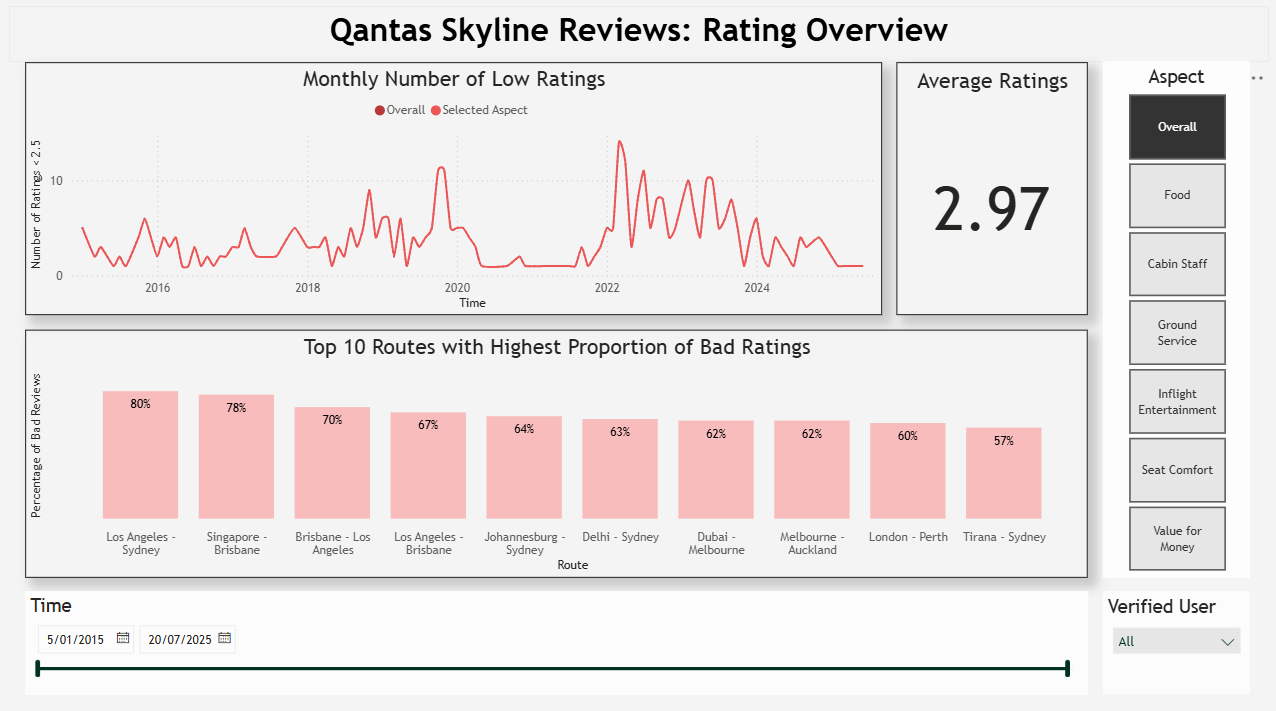

What the dashboard file says about the page in this screenshot:
{"tool":"powerbi","page":{"name":"Overview","canvas":[1280,720],"ordinal":0},"visuals":[{"type":"card","fields":{"Values":["qantas_reviews_data.No route data"]},"box":[438.4,380.8,236,153.2],"z":0},{"type":"clusteredColumnChart","title":"Top 10 Routes with Highest Proportion of Bad Ratings","fields":{"Category":["qantas_reviews_data.ROUTE1"],"Y":["qantas_reviews_data.Proportion Bad Reviews per Route and Aspect"]},"box":[25.7,334.3,1062.4,247.7],"z":1000},{"type":"lineChart","title":"Monthly Number of Low Ratings","fields":{"Y":["qantas_reviews_data.Low Ratings","qantas_reviews_data.Selected Bad Ratings by Aspect"],"Category":["DateTable.Date.Variation.Date Hierarchy.Year","DateTable.Date.Variation.Date Hierarchy.Month"]},"box":[25.7,66.3,856.7,253.1],"z":2000},{"type":"textbox","box":[10,10,1260,55.7],"z":3000},{"type":"slicer","title":"Verified User","fields":{"Values":["qantas_reviews_data.VERIFIED1"]},"box":[1104.3,595.5,147.5,102.9],"z":4000},{"type":"card","title":"Average Ratings","fields":{"Values":["qantas_reviews_data.Selected Average Rating"]},"box":[897.3,66.3,190.8,253.1],"z":5000},{"type":"slicer","title":"Aspect","fields":{"Values":["AspectSelector.Aspect"]},"box":[1104.3,65,147.5,517],"z":6000},{"type":"slicer","title":"Time","fields":{"Values":["DateTable.Date"]},"box":[25.7,595.5,1062.4,102.9],"z":7000}]}

Visuals, with their boxes in screenshot pixels (x1, y1, x2, y2), scaled from the page's 1280x720 canvas onto the 1276x711 screenshot:
card - qantas_reviews_data.No route data: left=437, top=376, right=672, bottom=527
"Top 10 Routes with Highest Proportion of Bad Ratings" clusteredColumnChart: left=26, top=330, right=1085, bottom=575
"Monthly Number of Low Ratings" lineChart: left=26, top=65, right=880, bottom=315
textbox: left=10, top=10, right=1266, bottom=65
"Verified User" slicer: left=1101, top=588, right=1248, bottom=690
"Average Ratings" card: left=894, top=65, right=1085, bottom=315
"Aspect" slicer: left=1101, top=64, right=1248, bottom=575
"Time" slicer: left=26, top=588, right=1085, bottom=690
